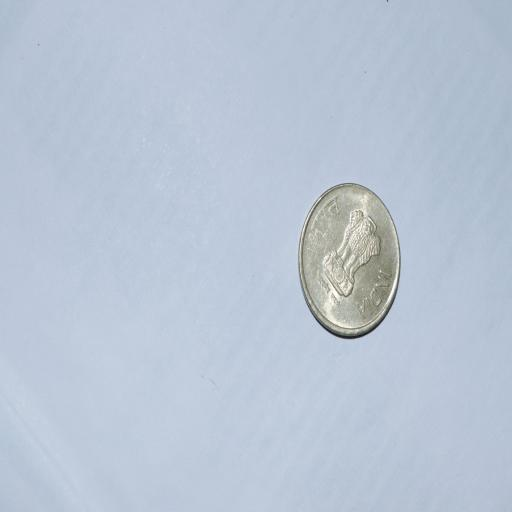rupee5: (298, 182, 400, 336)
